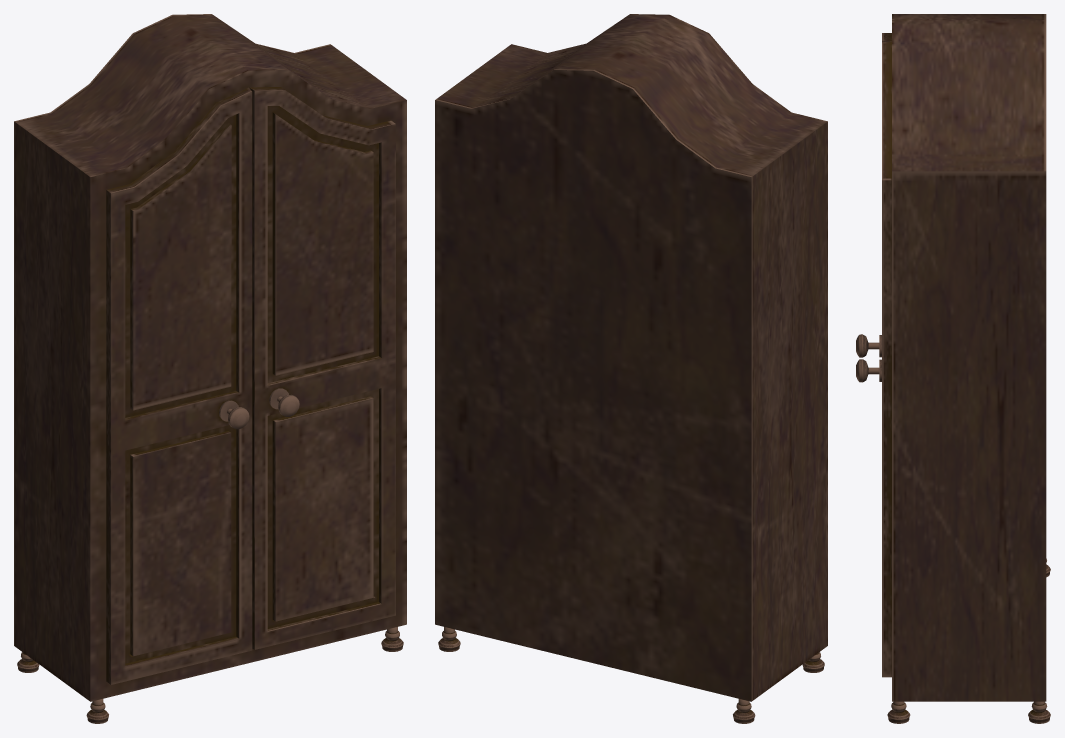
File: interactive locker.fbx
3 views of the same model, side by side, from view 1: azimuth 30°, elevation 25°; view 2: azimuth 150°, elevation 25°; view 3: azimuth 270°, elevation 25° (orthographic).
Visible parts, largest first — view 1: Cube, Cube.001, Cube.002; view 2: Cube; view 3: Cube, Cube.002, Cube.001.
Boxes of the visible parts, box(x1,y1,x2,y2) form: Cube: box(14, 14, 406, 723); Cube.001: box(106, 87, 252, 684); Cube.002: box(249, 87, 395, 649); Cube: box(435, 14, 827, 723); Cube: box(887, 14, 1050, 723); Cube.002: box(856, 41, 891, 677); Cube.001: box(856, 33, 891, 357).
Bounding box in the file's own units: 128 × 237 × 67.39.
